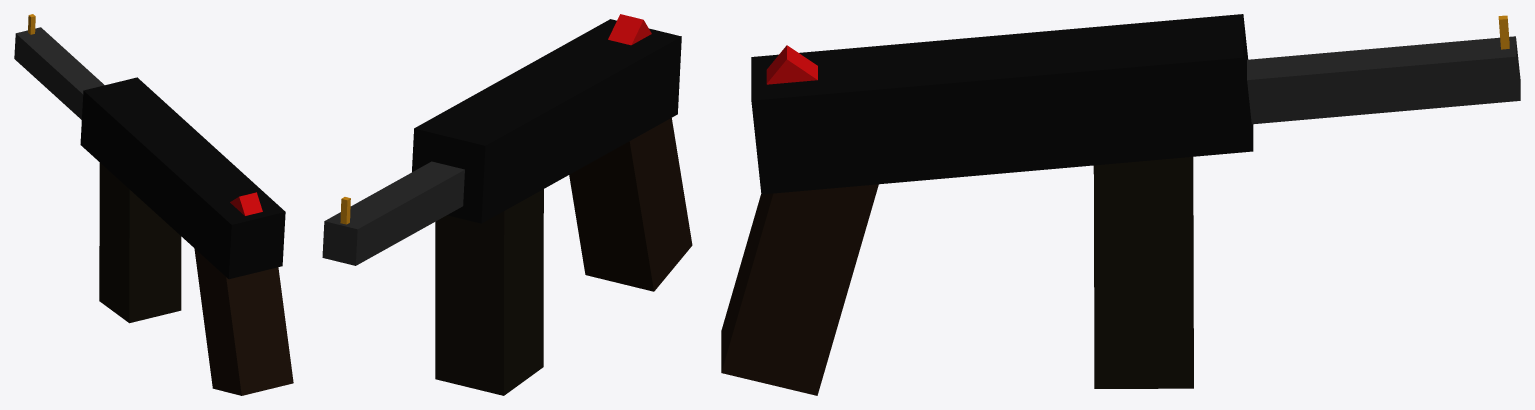
File: GL gun.obj
3 renders of one model, left to right at view 1: azimuth 30°, elevation 25°; view 2: azimuth 150°, elevation 25°; view 3: azimuth 270°, elevation 25°, orthographic. The views are drawn at different scales.
Visible parts, largest first — view 1: Cube.002, Cube, Cube.001, Cube.003, Cube.004; view 2: Cube.002, Cube.001, Cube, Cube.003, Cube.004; view 3: Cube.002, Cube.001, Cube, Cube.003, Cube.004.
Part boxes in pixels (x1=…): Cube.002: x1=80, y1=77, x2=285, y2=279; Cube: x1=194, y1=248, x2=293, y2=395; Cube.001: x1=99, y1=162, x2=181, y2=323; Cube.003: x1=14, y1=27, x2=104, y2=119; Cube.004: x1=230, y1=192, x2=262, y2=215; Cube.002: x1=412, y1=19, x2=681, y2=223; Cube.001: x1=435, y1=189, x2=543, y2=395; Cube: x1=569, y1=118, x2=692, y2=291; Cube.003: x1=322, y1=161, x2=464, y2=265; Cube.004: x1=608, y1=14, x2=651, y2=45; Cube.002: x1=751, y1=14, x2=1253, y2=194; Cube.001: x1=1093, y1=157, x2=1193, y2=388; Cube: x1=721, y1=184, x2=878, y2=395; Cube.003: x1=1247, y1=36, x2=1520, y2=124; Cube.004: x1=766, y1=45, x2=817, y2=84.
Bounding box in the file's own units: 0.9991 × 3.82 × 7.73.
